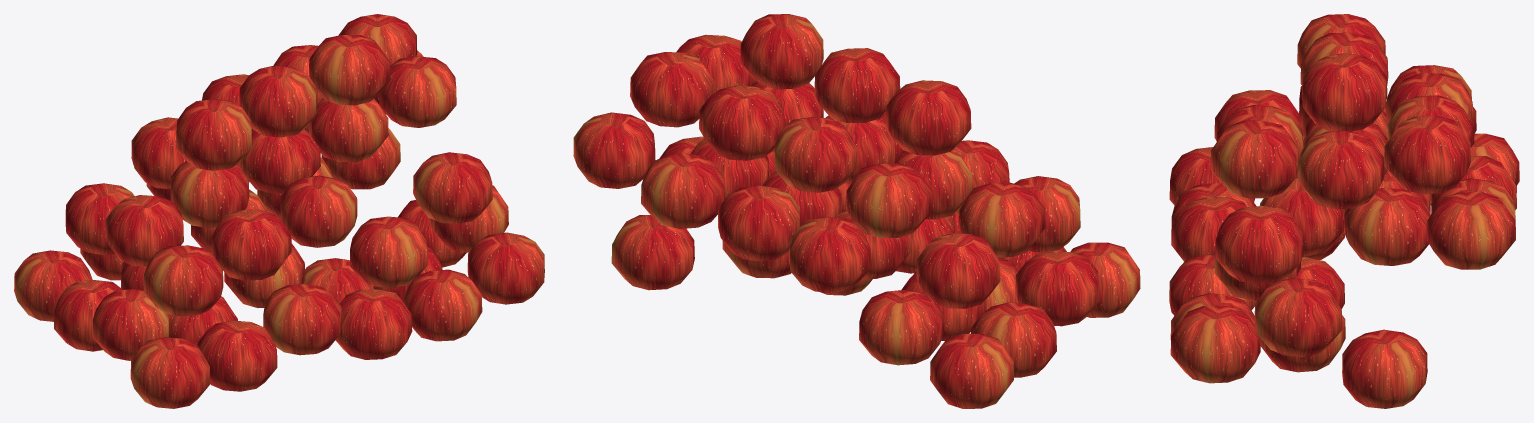
The model's file is sk_produce_pile_apple.fbx.
3 renders of one model, left to right at view 1: azimuth 30°, elevation 25°; view 2: azimuth 150°, elevation 25°; view 3: azimuth 270°, elevation 25°, orthographic. The views are drawn at different scales.
Parts seen in each view (by area): view 1: sk_produce_pile_apple; view 2: sk_produce_pile_apple; view 3: sk_produce_pile_apple.
Part boxes in pixels (<box>): sk_produce_pile_apple: <box>14,14,544,408</box>; sk_produce_pile_apple: <box>573,14,1140,408</box>; sk_produce_pile_apple: <box>1169,14,1519,408</box>.
Size of the model in its own units: 0.4381 by 0.267 by 0.2945.
1 material, 1 textured.
